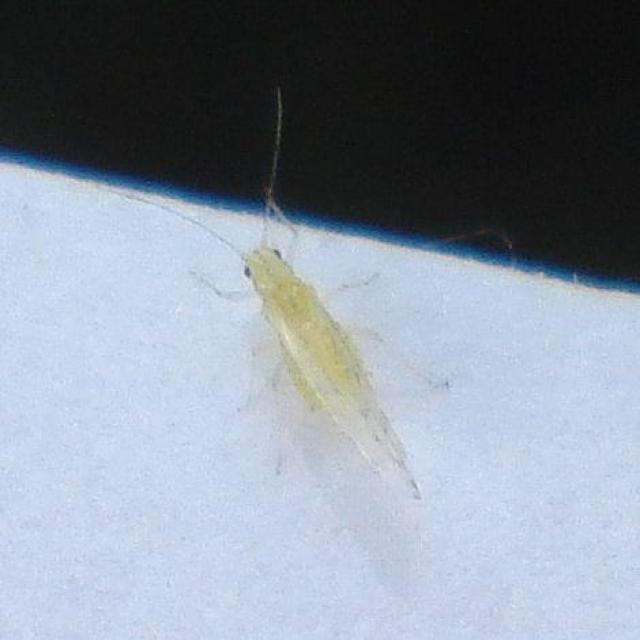Aphids: (113, 134, 484, 517)
